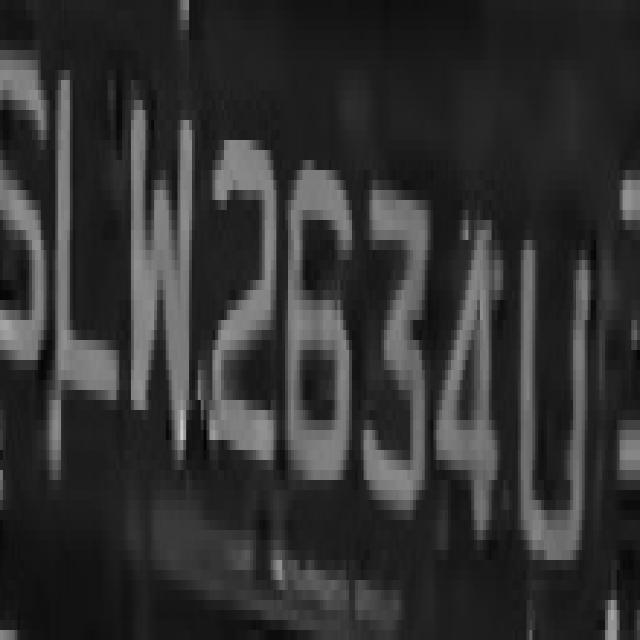2: (207, 60, 282, 510)
3: (355, 140, 439, 540)
4: (434, 190, 506, 540)
6: (282, 120, 358, 530)
L: (50, 60, 116, 460)
S: (3, 10, 49, 430)
U: (512, 200, 593, 600)
W: (108, 60, 195, 460)
